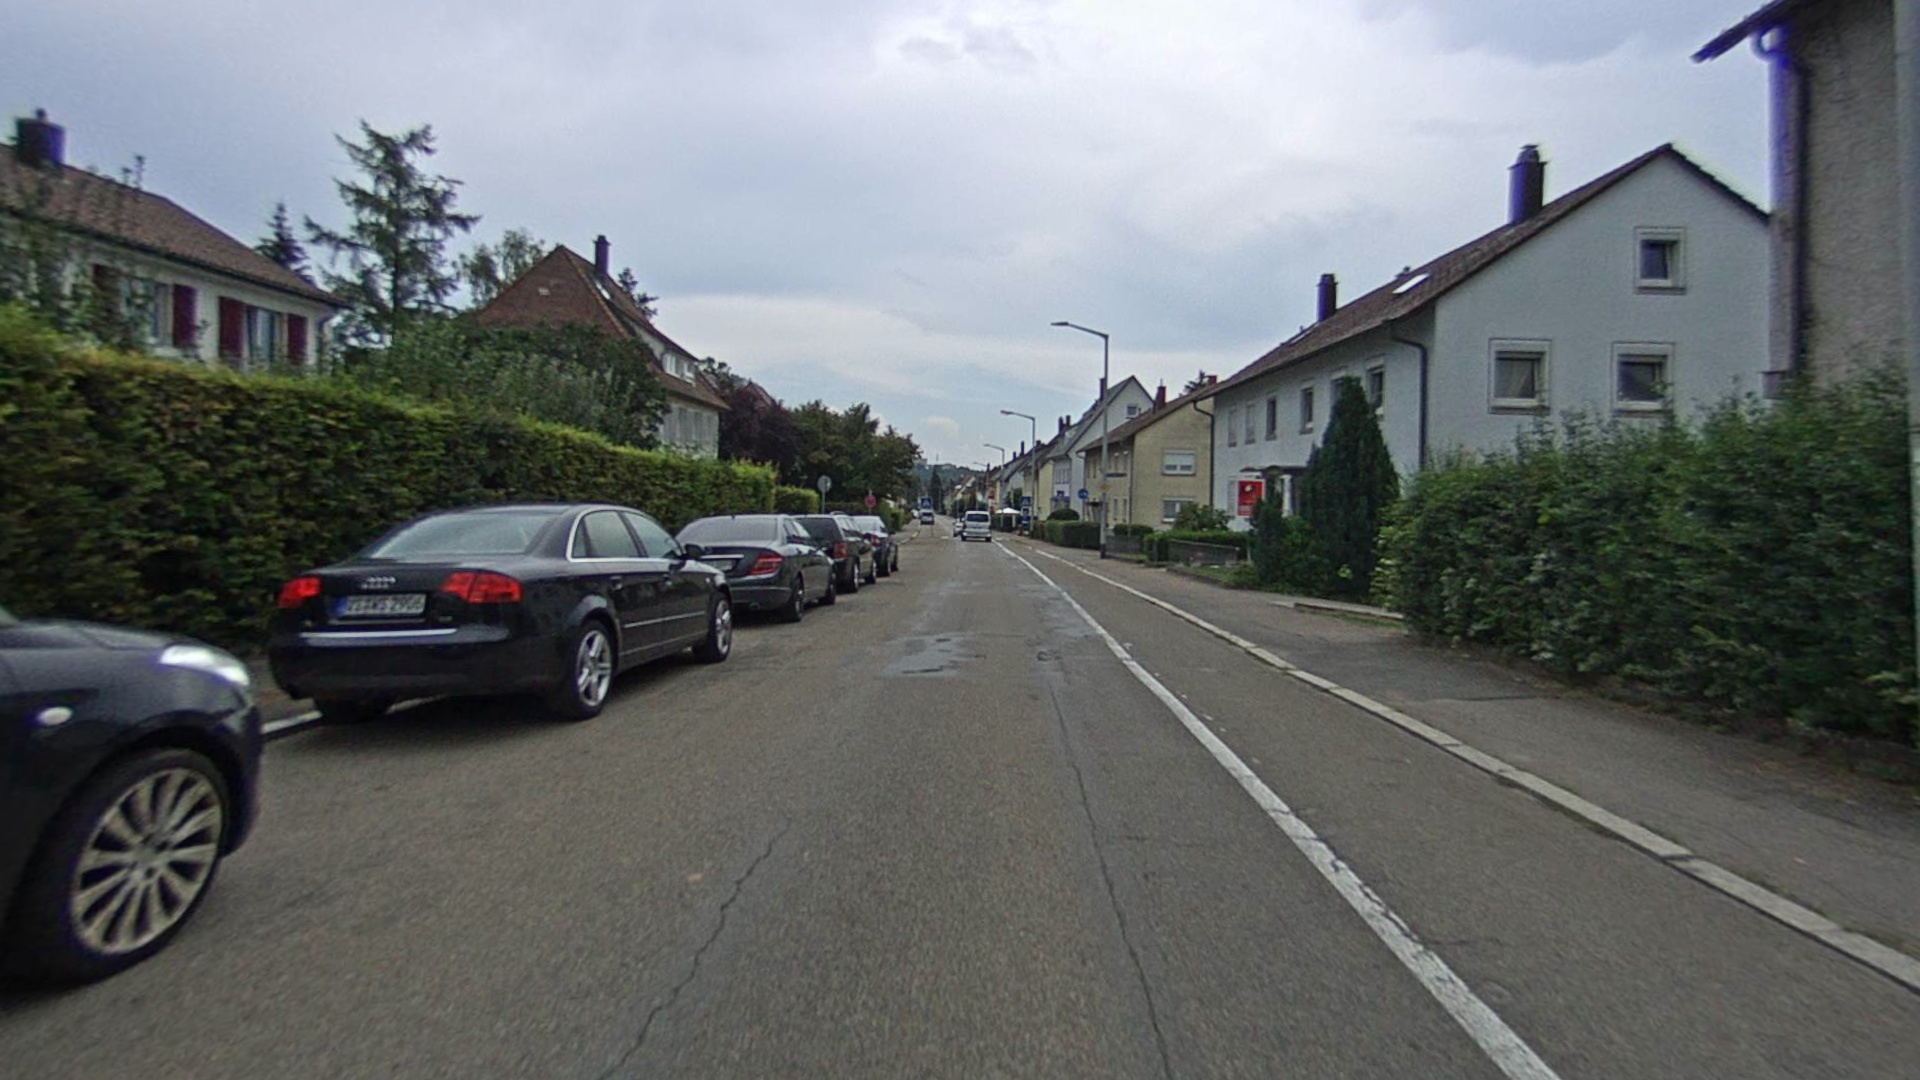car: (264, 502, 736, 723)
